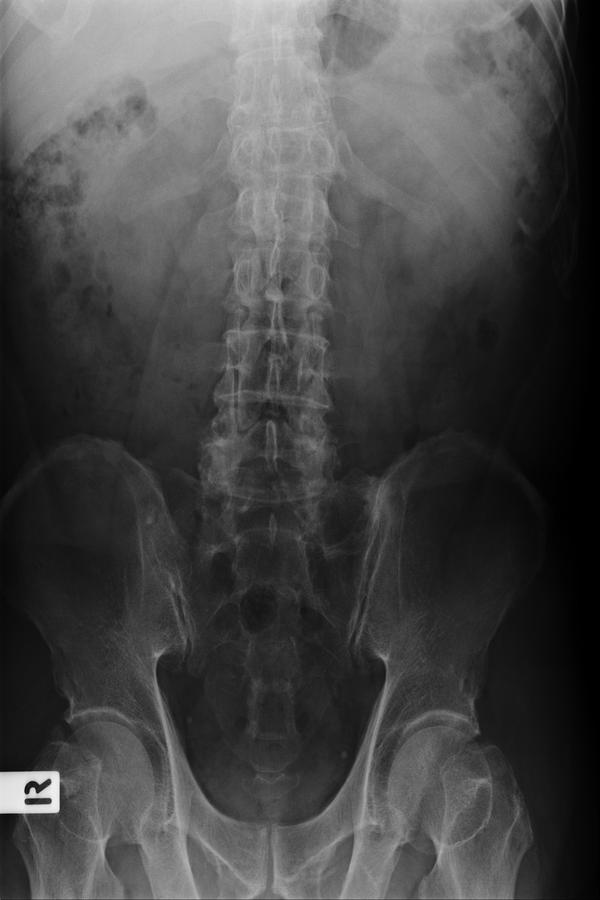lumbar scoliosis: (199, 9, 345, 554)
